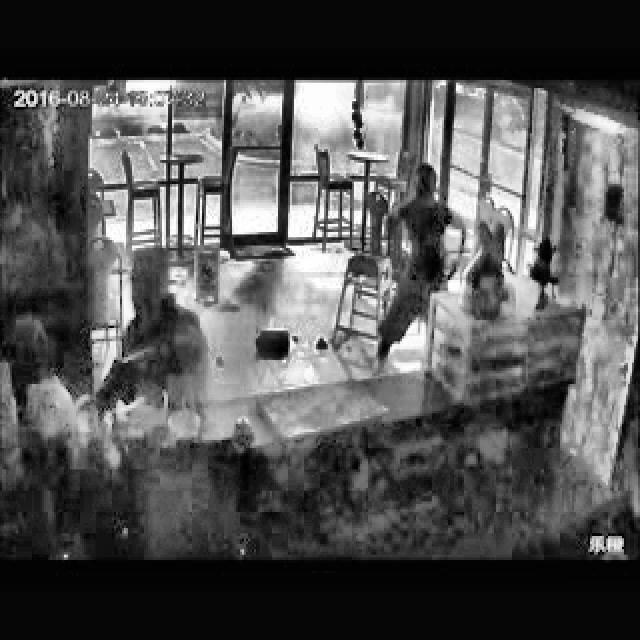burglary: (74, 235, 220, 448), (369, 150, 476, 382)
